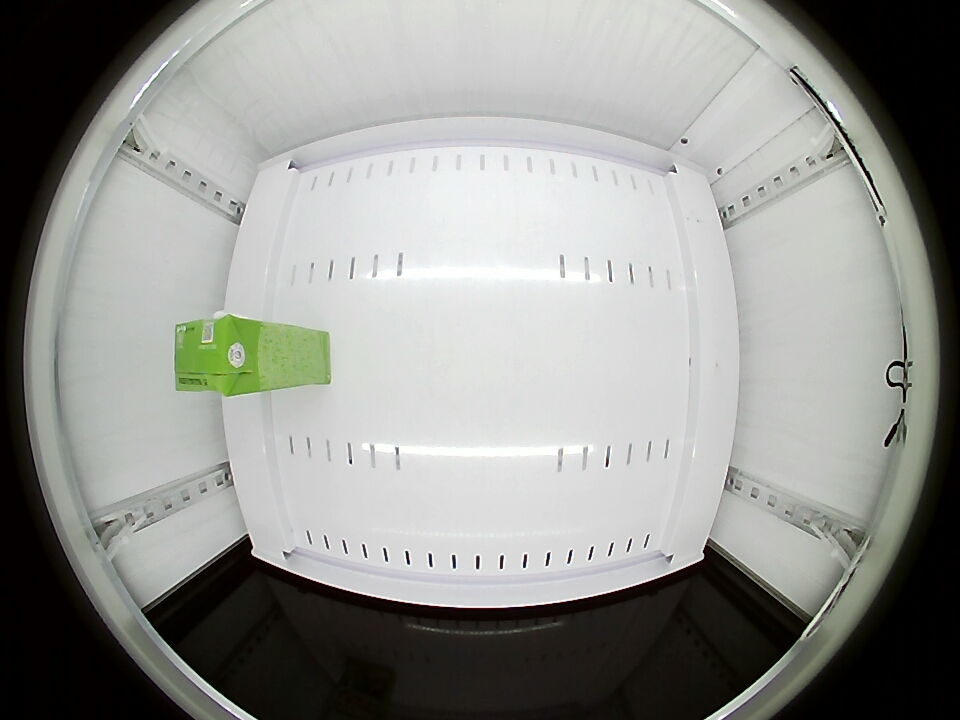mengniuzaocan: (174, 313, 263, 395)
